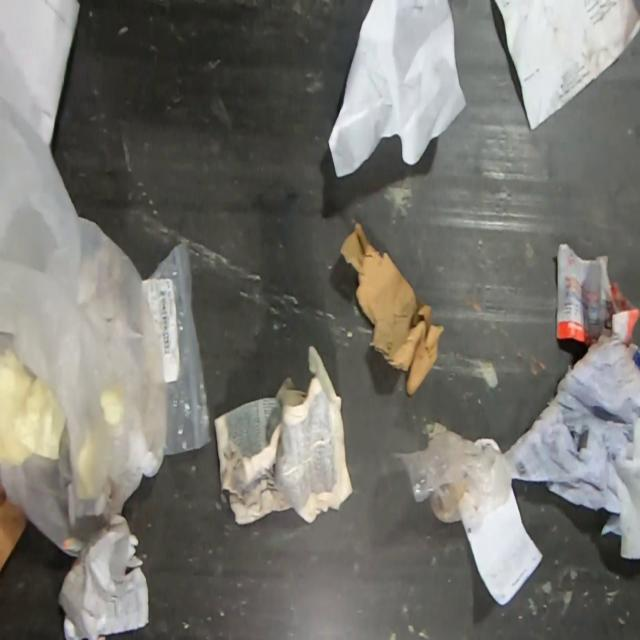cardboard: (339, 222, 444, 396), (0, 481, 28, 576)
soft_plastic: (0, 91, 168, 556), (509, 334, 640, 559), (144, 241, 209, 455), (397, 420, 513, 527)
